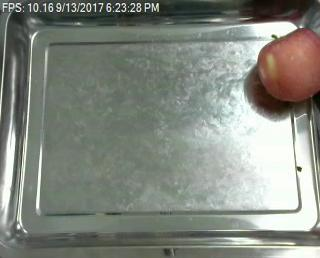apple: (258, 28, 320, 101)
